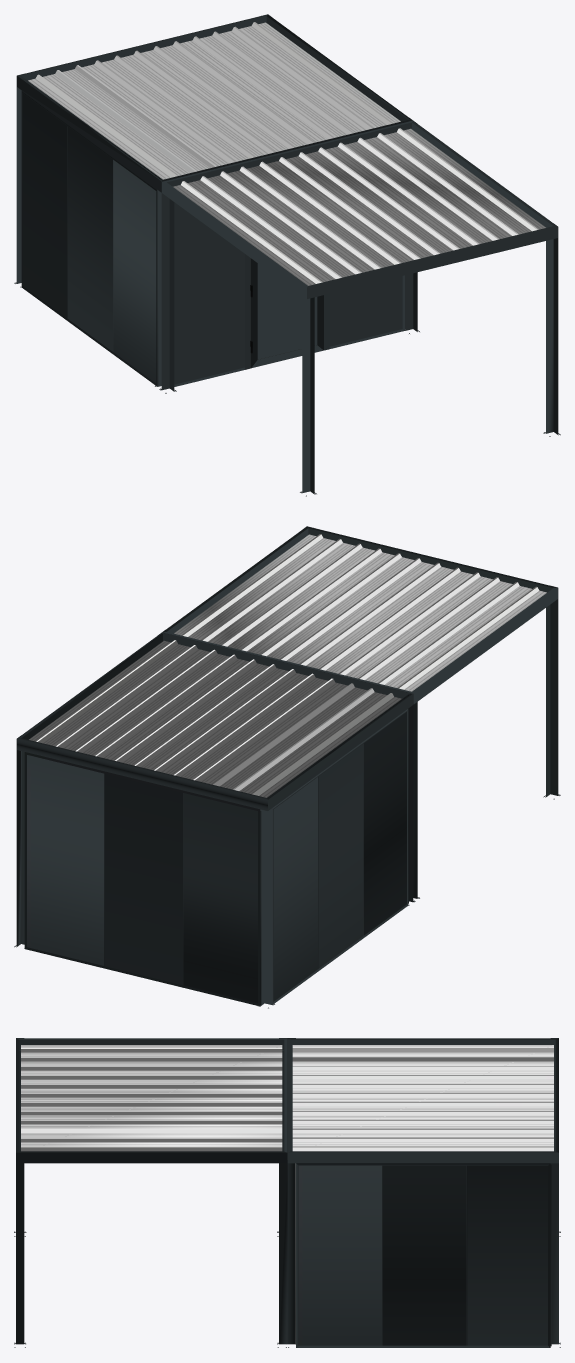
Rendered from 13443_carport3x3abri3x3.fbx.
The picture shows the model from 3 angles, top to bottom: view 1: azimuth 30°, elevation 25°; view 2: azimuth 150°, elevation 25°; view 3: azimuth 270°, elevation 25°; orthographic projection. The views are drawn at different scales.
Visible parts, largest first — view 1: priximbattable_net_abris_de_voiture_13443_module_carport_abr, folha, porta; view 2: priximbattable_net_abris_de_voiture_13443_module_carport_abr; view 3: priximbattable_net_abris_de_voiture_13443_module_carport_abr.
Part boxes in pixels (box(x1,y1,x2,y2)): priximbattable_net_abris_de_voiture_13443_module_carport_abr: box(14, 14, 560, 496); folha: box(250, 258, 323, 368); porta: box(245, 254, 329, 369); priximbattable_net_abris_de_voiture_13443_module_carport_abr: box(14, 526, 560, 1008); priximbattable_net_abris_de_voiture_13443_module_carport_abr: box(14, 1038, 560, 1347).
Size of the model in its own units: 324 by 254 by 644.
Materials: 1 (1 with a texture image).
